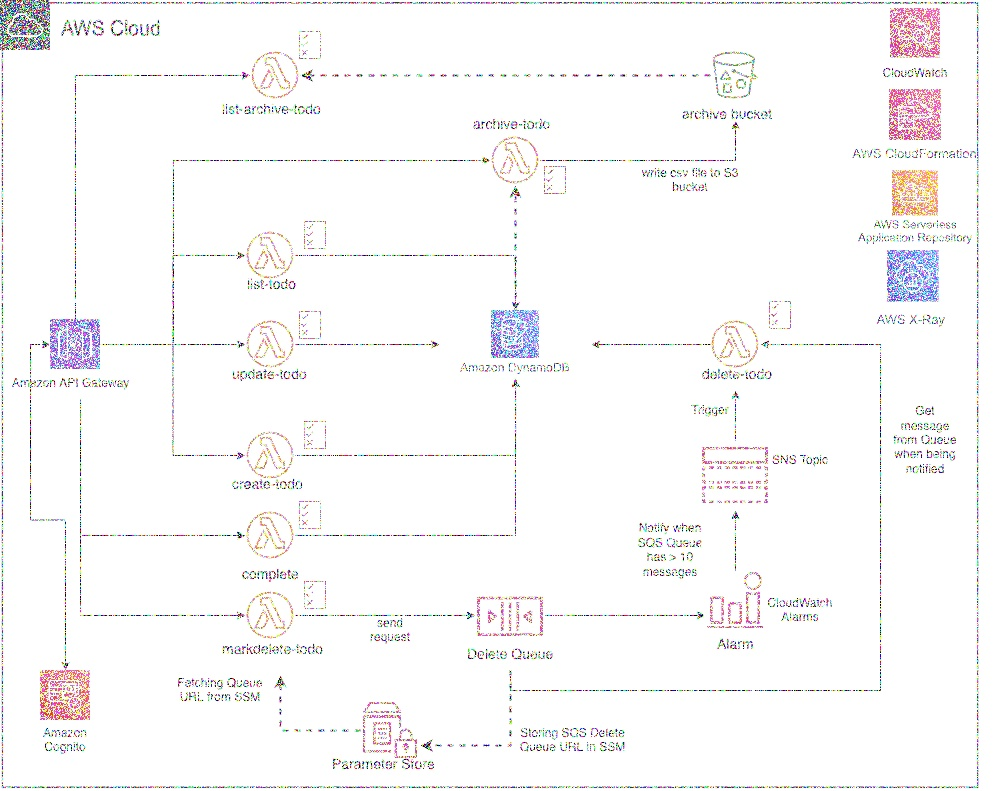API-Gateway: (45, 314, 104, 374)
Cloud Watch: (886, 5, 943, 60)
CloudFormation Stack: (883, 84, 949, 145)
CloudWatch Alarm: (705, 570, 766, 632)
Cognito: (35, 664, 95, 726)
Dynamo DB: (489, 305, 543, 364)
Lambda: (486, 131, 544, 187), (243, 424, 297, 483), (708, 315, 762, 371), (243, 315, 297, 370), (243, 505, 296, 561), (243, 587, 297, 641), (243, 228, 297, 280), (252, 47, 300, 100)
Parameter Store: (358, 697, 420, 759)
S3: (708, 45, 766, 107)
SAR: (888, 165, 942, 218)
X-Ray: (885, 245, 943, 307)
aws: (1, 0, 55, 52)
